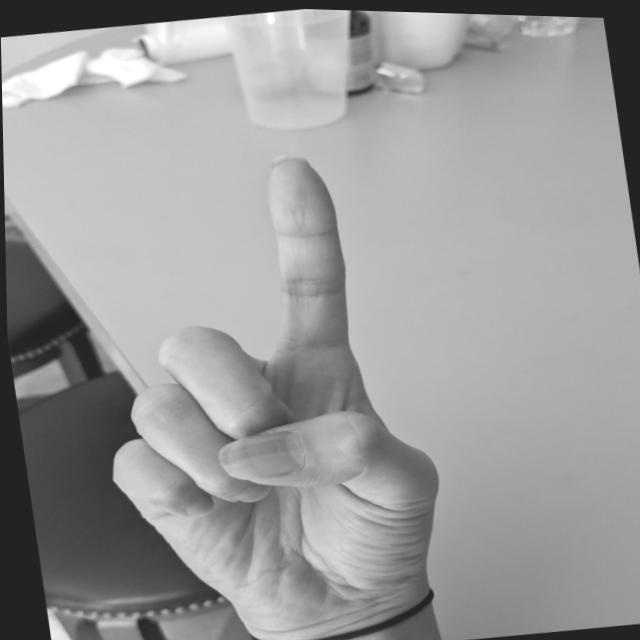D: (57, 126, 472, 639)
